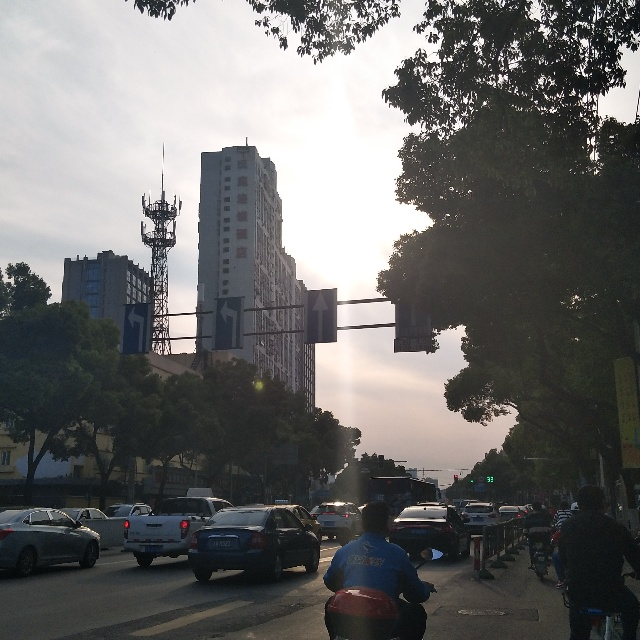left: (120, 300, 154, 358), (215, 295, 243, 353)
straight: (304, 287, 342, 350)
